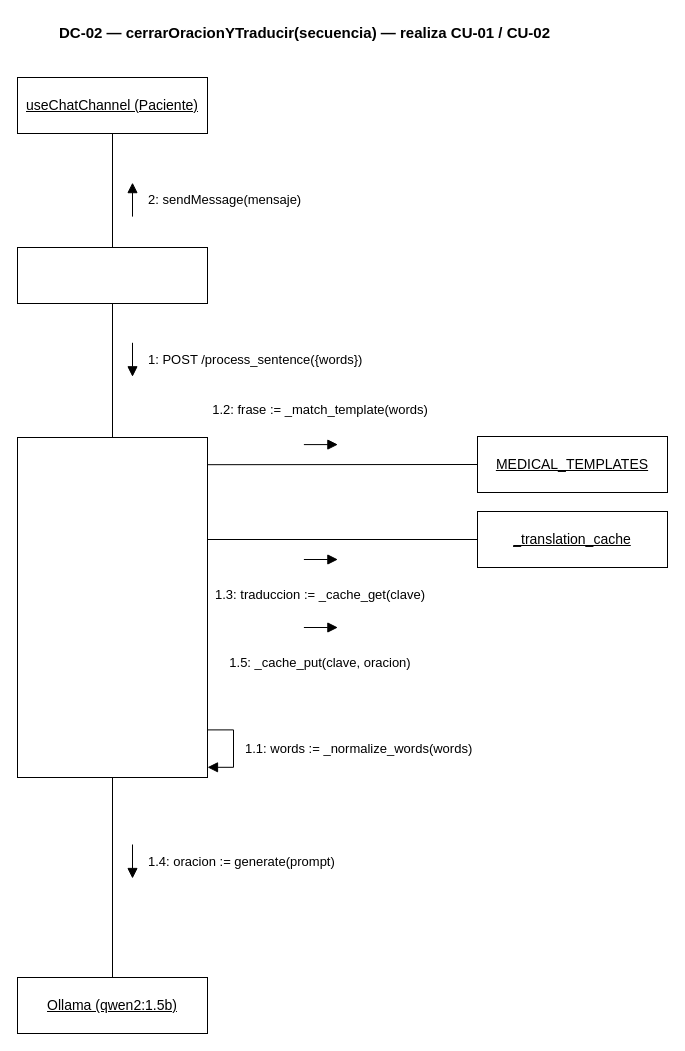
This 685x1051 diagram has some shape labels left out. The shapes that lost their labels are listed below. From the top down, each one's centre as x and y in pixels, then its label:
At (112,275): "useSentenceBuilder".
At (112,607): "process_sentence : app.py".
